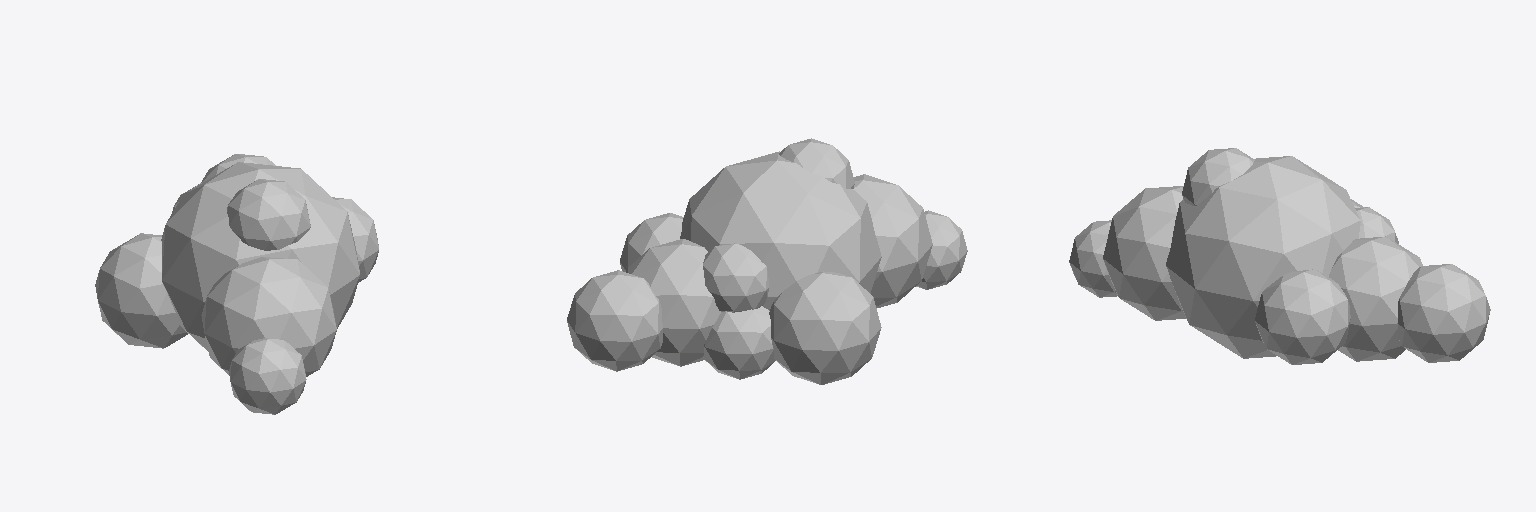
Rendered from cloud3.obj.
3 views of the same model, side by side, from view 1: azimuth 30°, elevation 25°; view 2: azimuth 150°, elevation 25°; view 3: azimuth 270°, elevation 25° (orthographic).
Parts seen in each view (by area): view 1: Icosphere.005_Icosphere.001; view 2: Icosphere.005_Icosphere.001; view 3: Icosphere.005_Icosphere.001.
Boxes of the visible parts, <box> form: Icosphere.005_Icosphere.001: <box>95,154,378,414</box>; Icosphere.005_Icosphere.001: <box>567,138,967,384</box>; Icosphere.005_Icosphere.001: <box>1069,148,1490,364</box>.
Bounding box in the file's own units: 2.25 × 1.62 × 3.17.